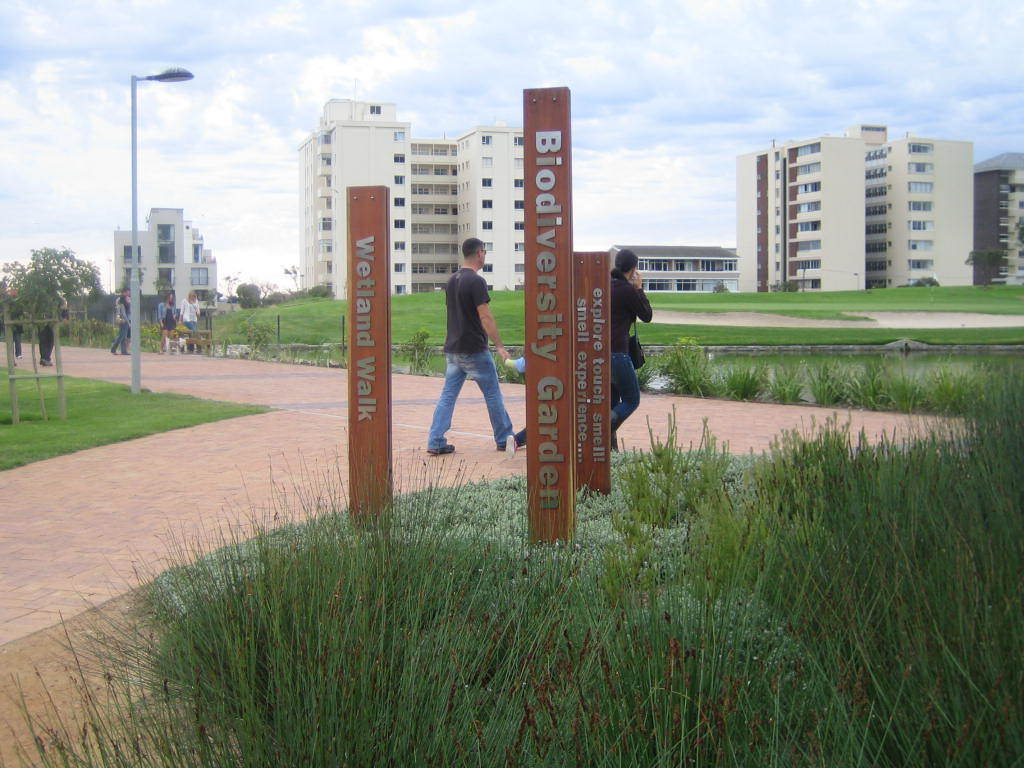Footwear: (425, 443, 455, 455), (505, 433, 517, 458)
